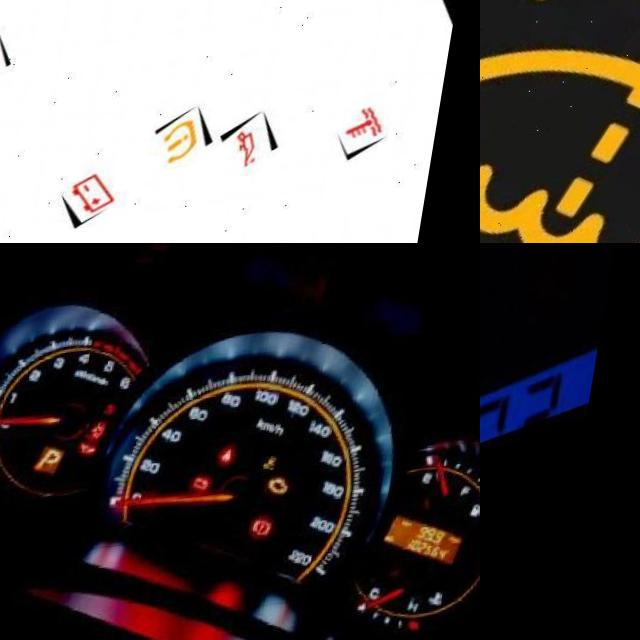High Engine Coolant Temperature: (438, 590, 463, 616)
Seat Belt: (227, 449, 245, 469)
Washer Fluid: (480, 0, 640, 243)
